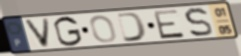D: (115, 11, 148, 43)
E: (152, 8, 187, 40)
G: (53, 15, 85, 48)
O: (88, 14, 118, 44)
S: (183, 6, 215, 38)
V: (22, 17, 52, 50)
